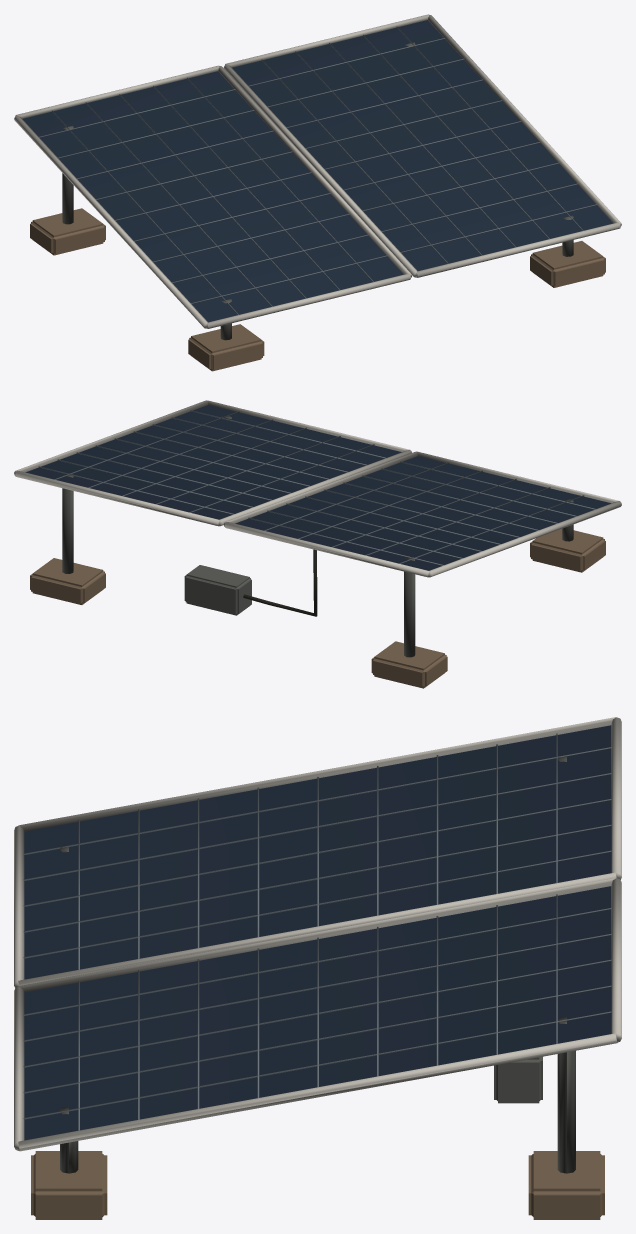
The model's file is coastal-solar-array.glb.
3 renders of one model, top to bottom at view 1: azimuth 30°, elevation 25°; view 2: azimuth 150°, elevation 25°; view 3: azimuth 270°, elevation 25°, orthographic. The views are drawn at different scales.
Parts seen in each view (by area): view 1: Frame; view 2: Frame; view 3: Frame.
Part boxes in pixels (x1,y1,x2,y2): Frame: [14, 14, 621, 371]; Frame: [14, 400, 621, 688]; Frame: [14, 717, 621, 1219].
Size of the model in its own units: 1.98 by 0.561 by 1.59.
